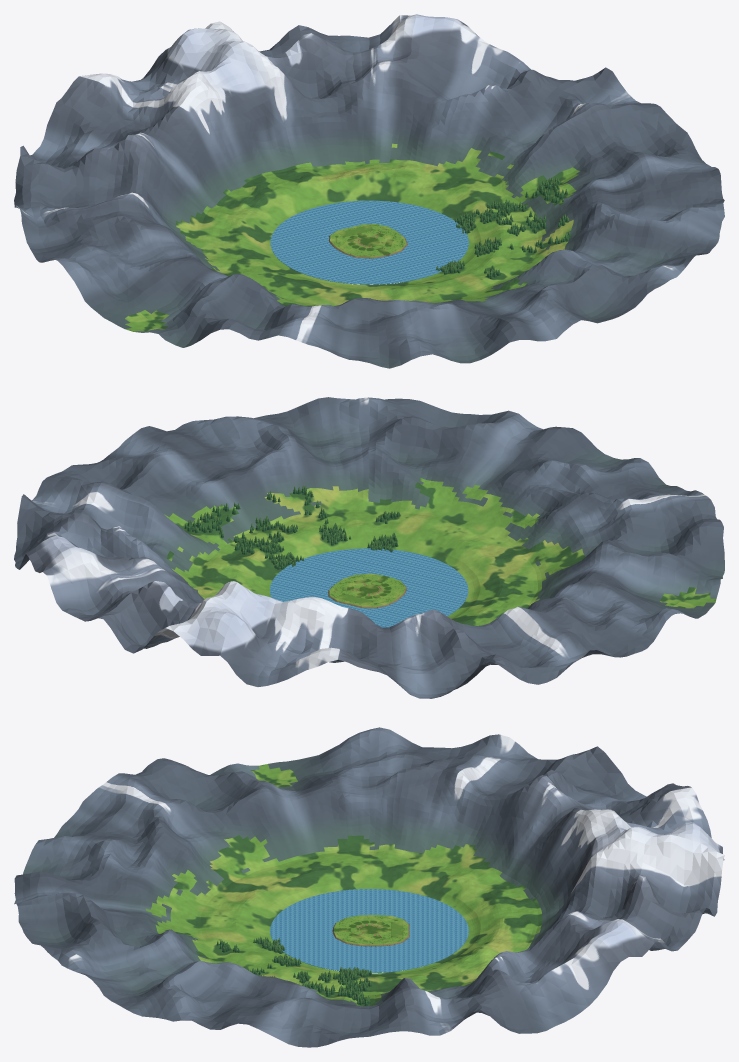
The model's file is LOBBY_SN_02_TERRAIN_06bf56.fbx.
3 renders of one model, top to bottom at view 1: azimuth 30°, elevation 25°; view 2: azimuth 150°, elevation 25°; view 3: azimuth 270°, elevation 25°, orthographic.
Parts seen in each view (by area): view 1: WB_Bg_Relief_5__SN_Mountain__SN_Mountain, WB_Bg_Relief_6__SN_Mountain__SN_Mountain, WB_Bg_Relief_7__SN_Mountain__SN_Mountain, WB_Bg_Relief_4__SN_Mountain__SN_Mountain, WB_Bg_Relief_0__SN_Mountain__SN_Mountain, WB_Bg_Relief_3__SN_Mountain__SN_Mountain, WB_Bg_Relief_2__SN_Mountain__SN_Mountain, WB_Bg_Relief_1__SN_Mountain__SN_Mountain, WB_Ter_Water__WB_Water__WB_Water, WB_Bg_Relief_7__SN_Hills__SN_Hills, WB_Bg_Relief_6__SN_Hills__SN_Hills, WB_Bg_Relief_4__SN_Hills__SN_Hills (+9 smaller); view 2: WB_Bg_Relief_1__SN_Mountain__SN_Mountain, WB_Bg_Relief_0__SN_Mountain__SN_Mountain, WB_Bg_Relief_5__SN_Mountain__SN_Mountain, WB_Bg_Relief_2__SN_Mountain__SN_Mountain, WB_Bg_Relief_3__SN_Mountain__SN_Mountain, WB_Bg_Relief_4__SN_Mountain__SN_Mountain, WB_Bg_Relief_6__SN_Mountain__SN_Mountain, WB_Bg_Relief_7__SN_Mountain__SN_Mountain, WB_Ter_Water__WB_Water__WB_Water, WB_Bg_Relief_1__SN_Hills__SN_Hills, WB_Bg_Relief_2__SN_Hills__SN_Hills, WB_Bg_Relief_0__SN_Hills__SN_Hills (+7 smaller); view 3: WB_Bg_Relief_4__SN_Mountain__SN_Mountain, WB_Bg_Relief_2__SN_Mountain__SN_Mountain, WB_Bg_Relief_3__SN_Mountain__SN_Mountain, WB_Bg_Relief_6__SN_Mountain__SN_Mountain, WB_Bg_Relief_5__SN_Mountain__SN_Mountain, WB_Bg_Relief_7__SN_Mountain__SN_Mountain, WB_Bg_Relief_1__SN_Mountain__SN_Mountain, WB_Bg_Relief_0__SN_Mountain__SN_Mountain, WB_Ter_Water__WB_Water__WB_Water, WB_Bg_Relief_3__SN_Hills__SN_Hills, WB_Bg_Relief_2__SN_Hills__SN_Hills, WB_Bg_Relief_4__SN_Hills__SN_Hills (+9 smaller).
Part boxes in pixels (x1=…): WB_Bg_Relief_5__SN_Mountain__SN_Mountain: x1=30, y1=28, x2=282, y2=211; WB_Bg_Relief_6__SN_Mountain__SN_Mountain: x1=205, y1=14, x2=456, y2=169; WB_Bg_Relief_7__SN_Mountain__SN_Mountain: x1=415, y1=19, x2=675, y2=197; WB_Bg_Relief_4__SN_Mountain__SN_Mountain: x1=14, y1=135, x2=219, y2=270; WB_Bg_Relief_0__SN_Mountain__SN_Mountain: x1=521, y1=123, x2=724, y2=250; WB_Bg_Relief_3__SN_Mountain__SN_Mountain: x1=62, y1=248, x2=311, y2=347; WB_Bg_Relief_2__SN_Mountain__SN_Mountain: x1=278, y1=298, x2=544, y2=368; WB_Bg_Relief_1__SN_Mountain__SN_Mountain: x1=477, y1=229, x2=711, y2=341; WB_Ter_Water__WB_Water__WB_Water: x1=270, y1=200, x2=468, y2=284; WB_Bg_Relief_7__SN_Hills__SN_Hills: x1=396, y1=148, x2=576, y2=221; WB_Bg_Relief_6__SN_Hills__SN_Hills: x1=283, y1=143, x2=414, y2=206; WB_Bg_Relief_4__SN_Hills__SN_Hills: x1=176, y1=212, x2=284, y2=271; WB_Bg_Relief_1__SN_Mountain__SN_Mountain: x1=278, y1=397, x2=542, y2=509; WB_Bg_Relief_0__SN_Mountain__SN_Mountain: x1=62, y1=414, x2=321, y2=543; WB_Bg_Relief_5__SN_Mountain__SN_Mountain: x1=192, y1=582, x2=457, y2=698; WB_Bg_Relief_2__SN_Mountain__SN_Mountain: x1=468, y1=426, x2=710, y2=564; WB_Bg_Relief_3__SN_Mountain__SN_Mountain: x1=536, y1=500, x2=724, y2=618; WB_Bg_Relief_4__SN_Mountain__SN_Mountain: x1=433, y1=596, x2=674, y2=688; WB_Bg_Relief_6__SN_Mountain__SN_Mountain: x1=26, y1=536, x2=237, y2=653; WB_Bg_Relief_7__SN_Mountain__SN_Mountain: x1=14, y1=471, x2=219, y2=595; WB_Ter_Water__WB_Water__WB_Water: x1=270, y1=548, x2=468, y2=627; WB_Bg_Relief_1__SN_Hills__SN_Hills: x1=316, y1=478, x2=480, y2=553; WB_Bg_Relief_2__SN_Hills__SN_Hills: x1=420, y1=489, x2=570, y2=580; WB_Bg_Relief_0__SN_Hills__SN_Hills: x1=164, y1=488, x2=342, y2=569; WB_Bg_Relief_4__SN_Mountain__SN_Mountain: x1=368, y1=727, x2=621, y2=867; WB_Bg_Relief_2__SN_Mountain__SN_Mountain: x1=14, y1=773, x2=246, y2=915; WB_Bg_Relief_3__SN_Mountain__SN_Mountain: x1=119, y1=729, x2=370, y2=871; WB_Bg_Relief_6__SN_Mountain__SN_Mountain: x1=528, y1=827, x2=724, y2=961; WB_Bg_Relief_5__SN_Mountain__SN_Mountain: x1=491, y1=773, x2=724, y2=920; WB_Bg_Relief_7__SN_Mountain__SN_Mountain: x1=368, y1=938, x2=620, y2=1036; WB_Bg_Relief_1__SN_Mountain__SN_Mountain: x1=14, y1=892, x2=208, y2=1004; WB_Bg_Relief_0__SN_Mountain__SN_Mountain: x1=119, y1=961, x2=370, y2=1047; WB_Ter_Water__WB_Water__WB_Water: x1=270, y1=889, x2=468, y2=972; WB_Bg_Relief_3__SN_Hills__SN_Hills: x1=222, y1=764, x2=369, y2=901; WB_Bg_Relief_2__SN_Hills__SN_Hills: x1=151, y1=849, x2=297, y2=931; WB_Bg_Relief_4__SN_Hills__SN_Hills: x1=369, y1=842, x2=491, y2=901.
Size of the model in its own units: 3001 by 489 by 3002.
11 materials, 8 textured.
